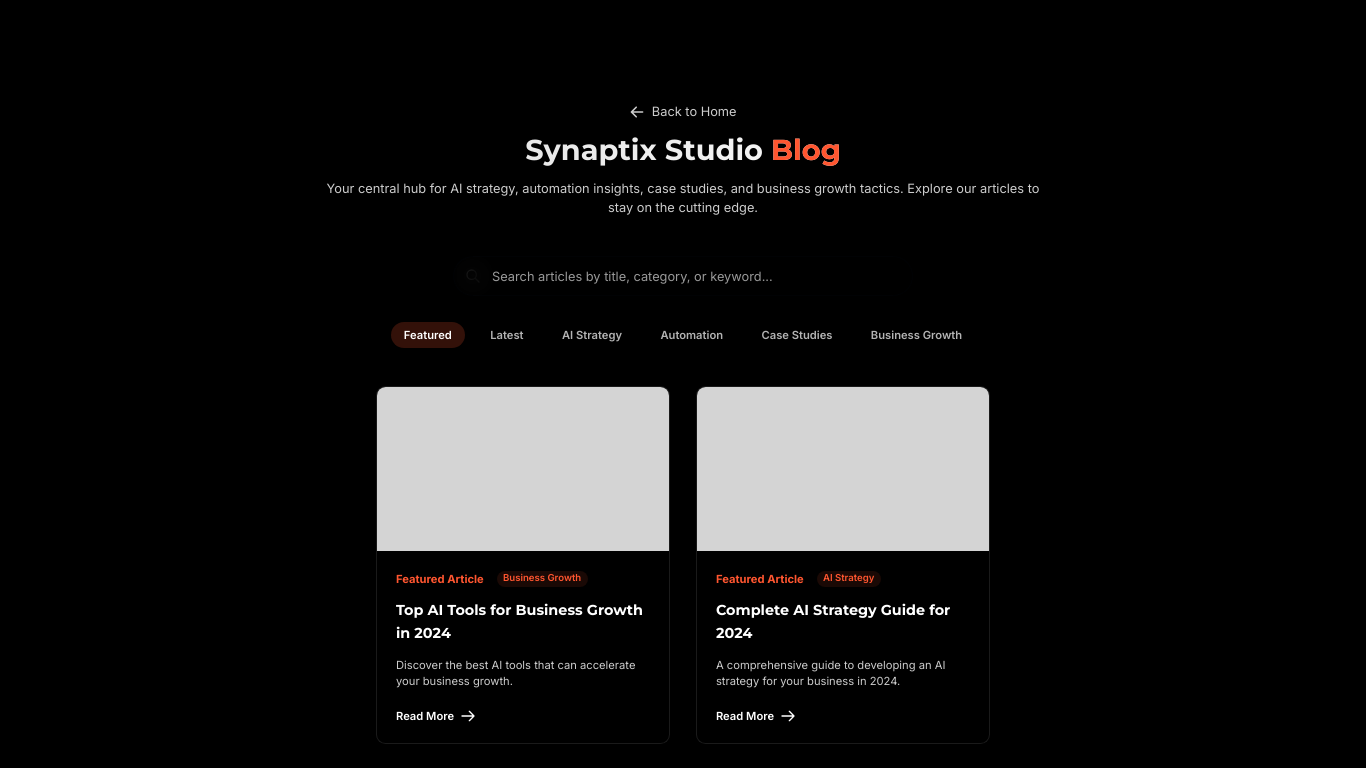
BlogPage Component › filters articles by category correctly
Note: Click on AI Strategy category
What coordinates should you click on to do the following:
click the button "AI Strategy"
I would click on:
 (592, 335)
Its box is x1=549 y1=322 x2=635 y2=348.
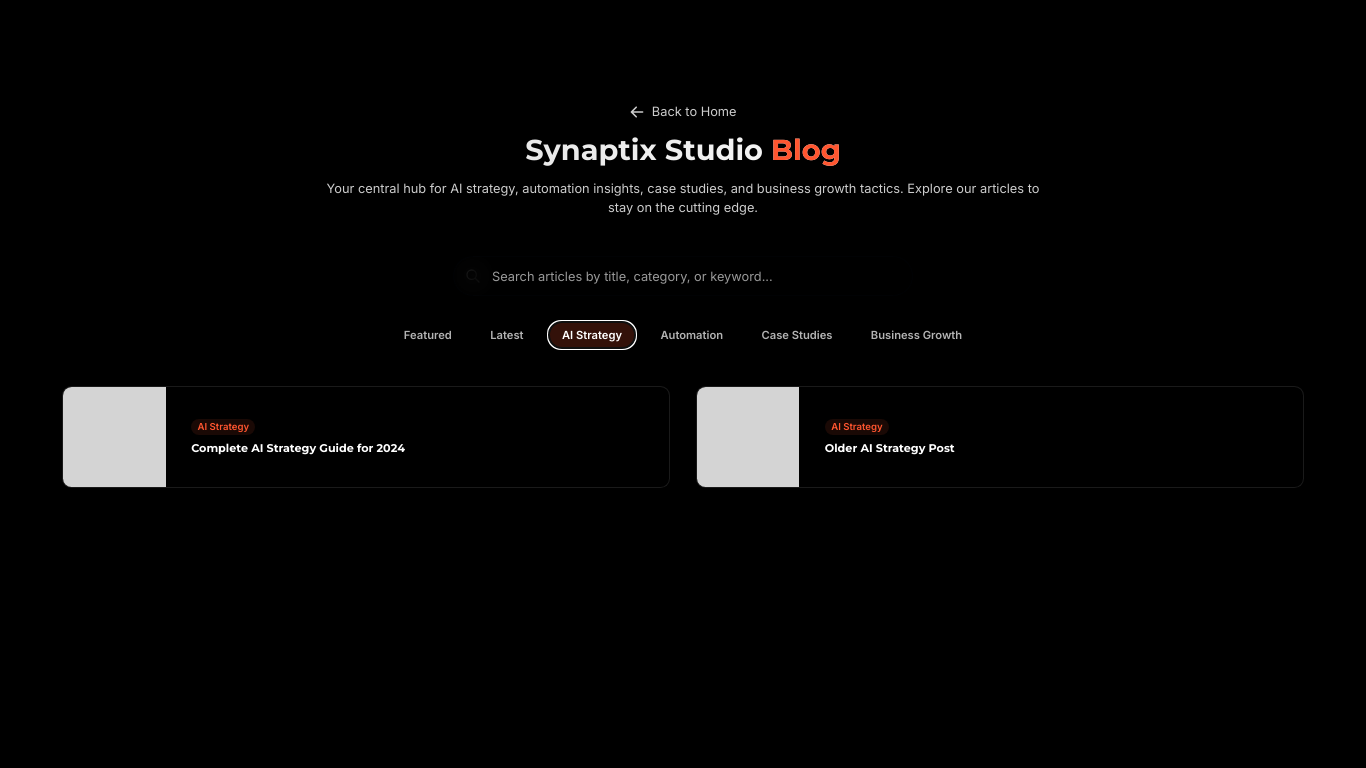
Expected: the heading "Complete AI Strategy Guide for 2024" is shown, x1=191 y1=441 x2=405 y2=455
Expected: the heading "Older AI Strategy Post" is shown, x1=825 y1=441 x2=955 y2=455
